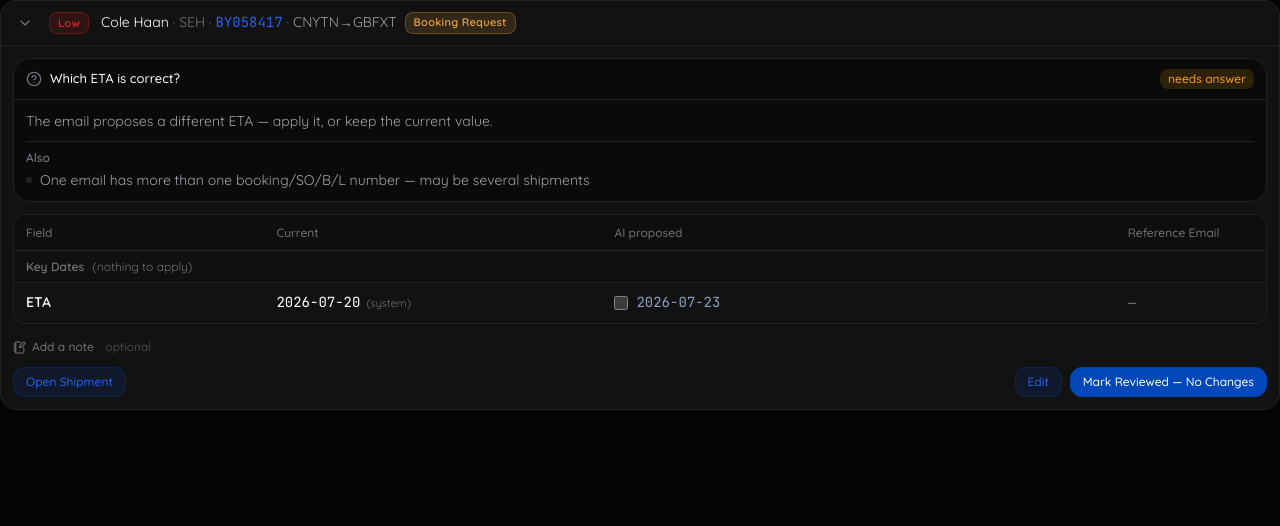
Test: conflict table — read-only by default, Edit to change values › a typed value can always be taken back › and it clears a typed override too
Click the button "Edit".
click(1038, 382)  # box [1015,367,1062,397]
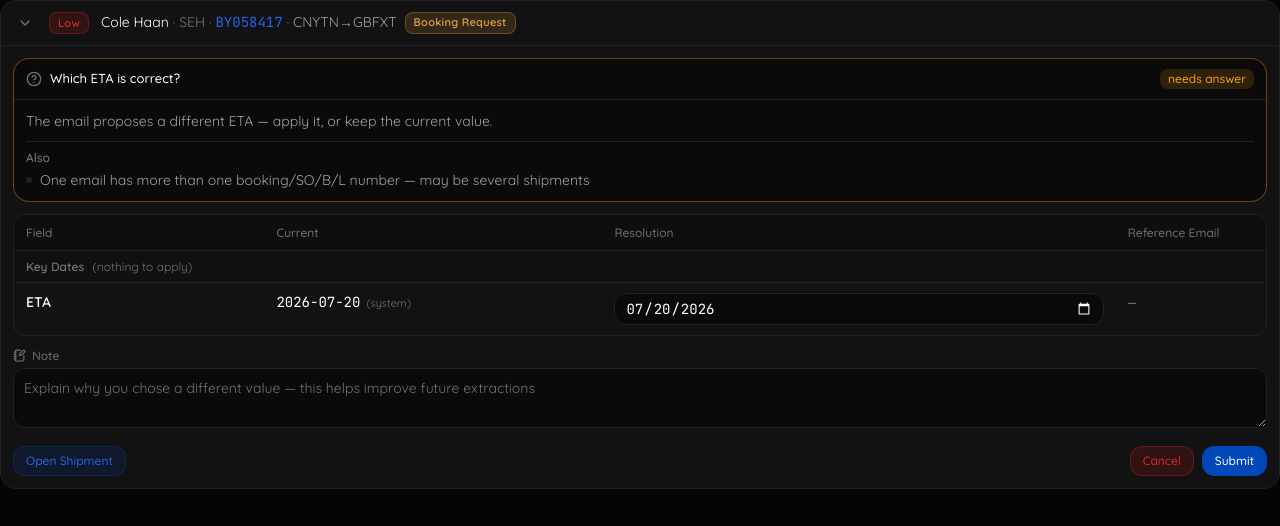
Type "2026-07-25" into the date field with test id "datetime-date".
click(859, 308); type("2026-07-25")  # box [614,292,1104,324]
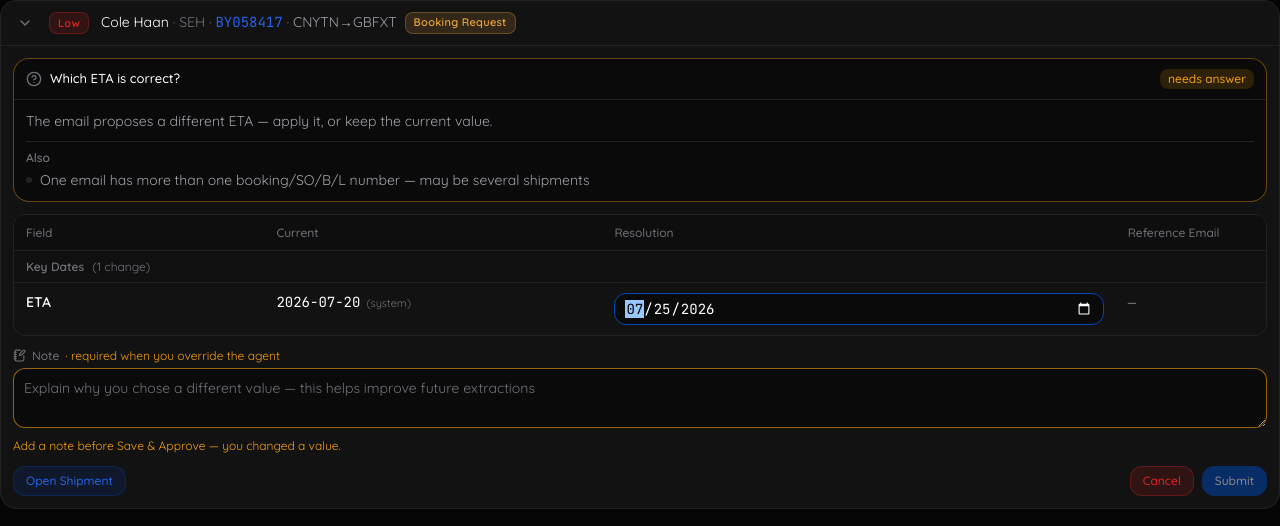
Click the button "Cancel".
click(1162, 481)  # box [1130,466,1194,496]
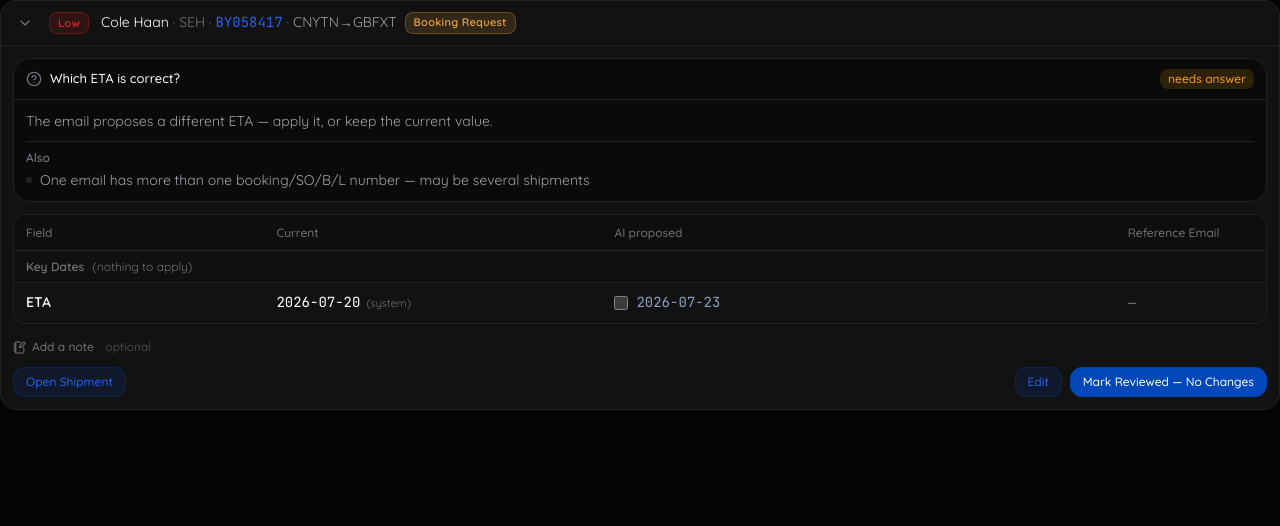
Expected: the column heading with test id "proposed-column-header" reads "AI proposed", [614,224,682,240]
